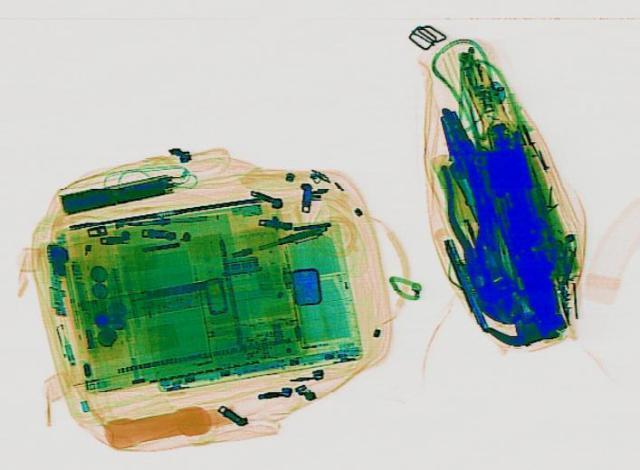Pliers: (432, 159, 510, 297)
